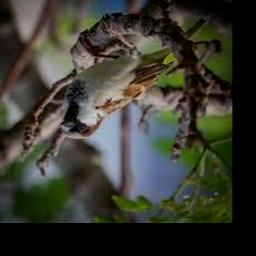Sparrow: (60, 25, 174, 140)
